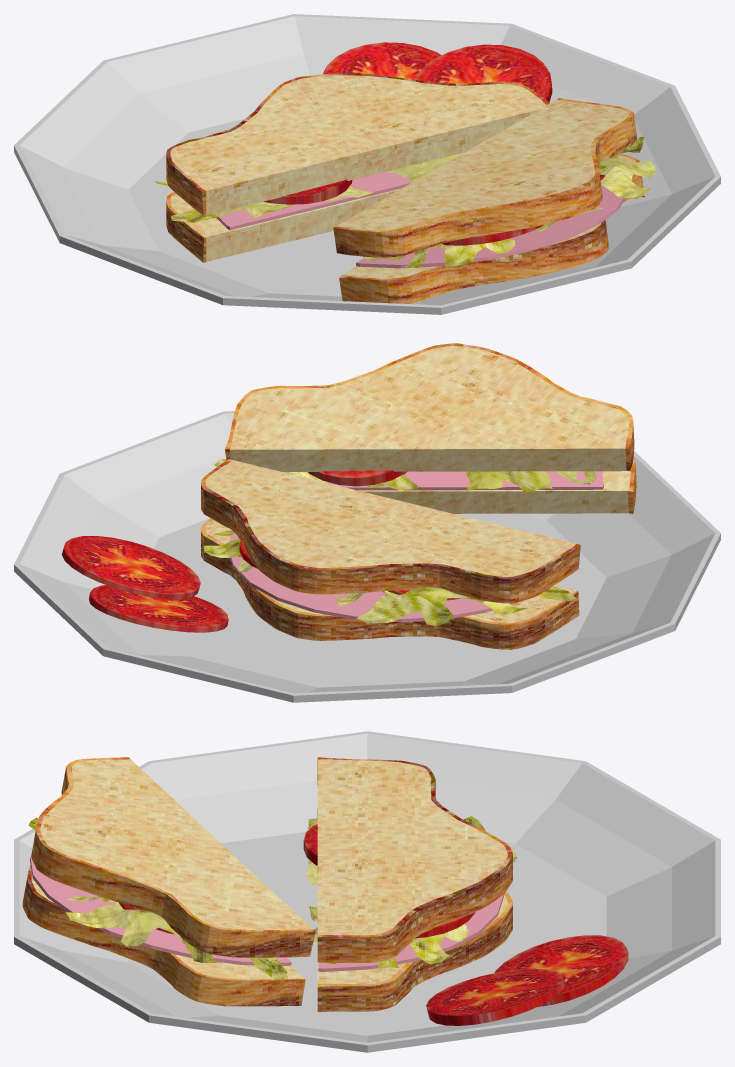
The model's file is MGA3077S.glb.
3 views of the same model, one above another, from view 1: azimuth 30°, elevation 25°; view 2: azimuth 150°, elevation 25°; view 3: azimuth 270°, elevation 25° (orthographic). The views are drawn at different scales.
Parts seen in each view (by area): view 1: PLATE-ROOT, BREAD01-ROOT, CRUST-ROOT, BOLOGNA-ROOT, LETTUCE-ROOT, tomato06-ROOT, tomato05-ROOT, tomato01-ROOT, tomato04-ROOT; view 2: PLATE-ROOT, BREAD01-ROOT, CRUST-ROOT, LETTUCE-ROOT, BOLOGNA-ROOT, tomato06-ROOT, tomato05-ROOT, tomato03-ROOT; view 3: PLATE-ROOT, BREAD01-ROOT, CRUST-ROOT, tomato06-ROOT, LETTUCE-ROOT, tomato05-ROOT, BOLOGNA-ROOT.
Part boxes in pixels (left/top/right/bottom): PLATE-ROOT: left=14, top=14, right=720, bottom=314; BREAD01-ROOT: left=170, top=75, right=635, bottom=278; CRUST-ROOT: left=166, top=73, right=643, bottom=303; BOLOGNA-ROOT: left=216, top=172, right=625, bottom=268; LETTUCE-ROOT: left=155, top=129, right=655, bottom=268; tomato06-ROOT: left=414, top=44, right=552, bottom=102; tomato05-ROOT: left=323, top=42, right=441, bottom=79; tomato01-ROOT: left=264, top=179, right=352, bottom=204; tomato04-ROOT: left=442, top=225, right=543, bottom=245; PLATE-ROOT: left=14, top=411, right=720, bottom=702; BREAD01-ROOT: left=205, top=346, right=631, bottom=623; CRUST-ROOT: left=201, top=343, right=636, bottom=649; LETTUCE-ROOT: left=203, top=375, right=596, bottom=626; BOLOGNA-ROOT: left=229, top=471, right=603, bottom=622; tomato06-ROOT: left=62, top=536, right=200, bottom=599; tomato05-ROOT: left=89, top=585, right=228, bottom=632; tomato03-ROOT: left=308, top=470, right=407, bottom=486; PLATE-ROOT: left=14, top=731, right=720, bottom=1052; BREAD01-ROOT: left=31, top=759, right=507, bottom=984; CRUST-ROOT: left=22, top=757, right=512, bottom=1011; tomato06-ROOT: left=426, top=968, right=564, bottom=1025; LETTUCE-ROOT: left=28, top=816, right=516, bottom=979; tomato05-ROOT: left=494, top=935, right=628, bottom=1006; BOLOGNA-ROOT: left=30, top=855, right=504, bottom=971.
Bounding box in the file's own units: 254 × 49.1 × 241.
6 materials, 4 textured.
